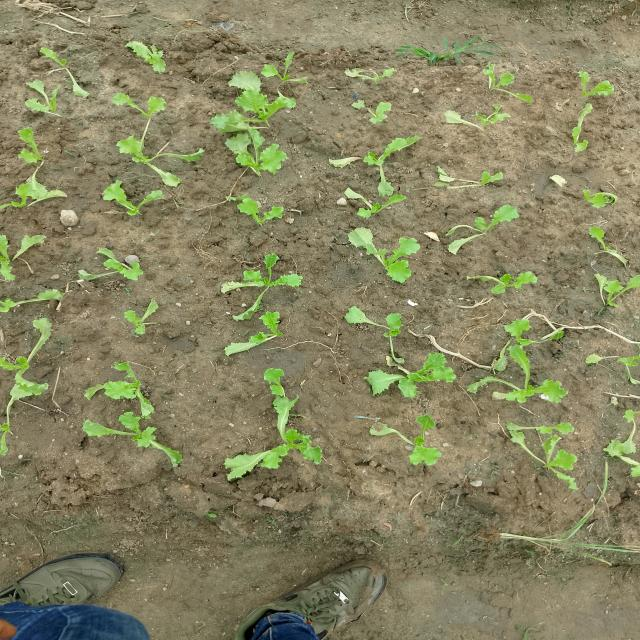Lettuce: (244, 367, 329, 474), (67, 405, 203, 467), (349, 411, 477, 476), (512, 418, 608, 496), (101, 116, 205, 186), (456, 351, 566, 416), (209, 246, 308, 308), (202, 302, 312, 354), (490, 311, 585, 363), (442, 260, 556, 302), (432, 196, 522, 249), (82, 362, 173, 412), (224, 69, 296, 132), (347, 231, 425, 286), (344, 133, 422, 188), (224, 124, 291, 187), (344, 314, 435, 360), (20, 44, 100, 93), (559, 170, 630, 223), (95, 176, 163, 229), (80, 245, 154, 286), (228, 192, 294, 236), (556, 112, 606, 170), (453, 99, 517, 143), (4, 80, 71, 122), (468, 69, 539, 105), (4, 345, 44, 408), (115, 296, 168, 342), (108, 85, 170, 122), (121, 34, 173, 78), (568, 76, 624, 113), (0, 227, 39, 278), (585, 270, 630, 313), (9, 129, 48, 167), (348, 68, 396, 87), (222, 476, 236, 481)
Spring Onion: (493, 526, 552, 562)
